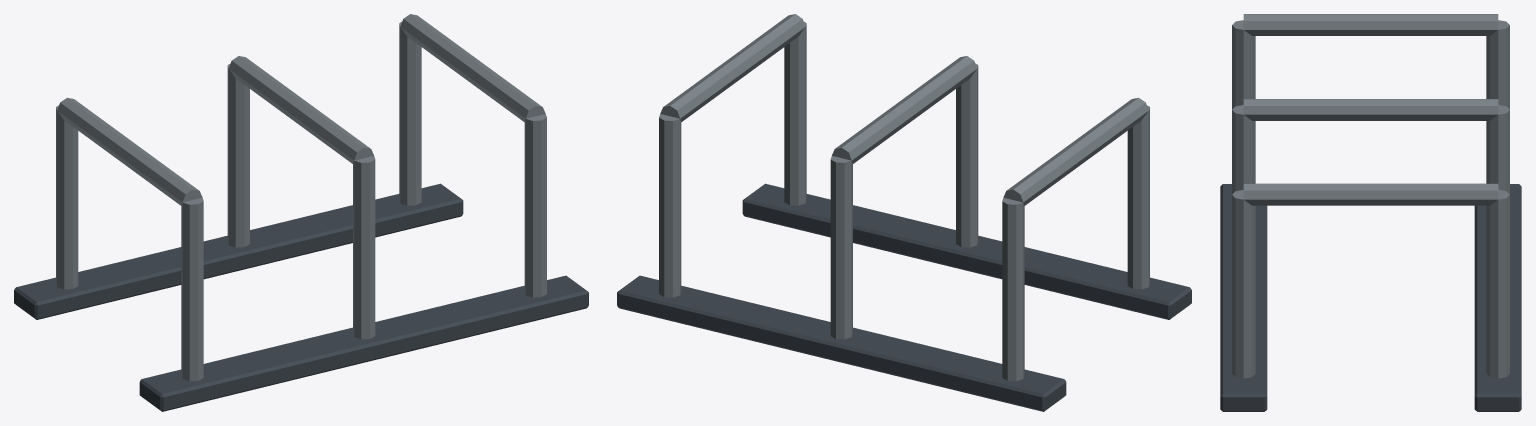
Rendered from BicycleRack.fbx.
3 views of the same model, side by side, from view 1: azimuth 30°, elevation 25°; view 2: azimuth 150°, elevation 25°; view 3: azimuth 270°, elevation 25° (orthographic).
Visible parts, largest first — view 1: BicycleRack; view 2: BicycleRack; view 3: BicycleRack.
Part boxes in pixels (x1,y1,x2,y2): BicycleRack: (14, 14, 588, 411); BicycleRack: (617, 14, 1191, 411); BicycleRack: (1220, 14, 1521, 411).
Size of the model in its own units: 150 by 68.5 by 90.
Materials: 1 (1 with a texture image).
